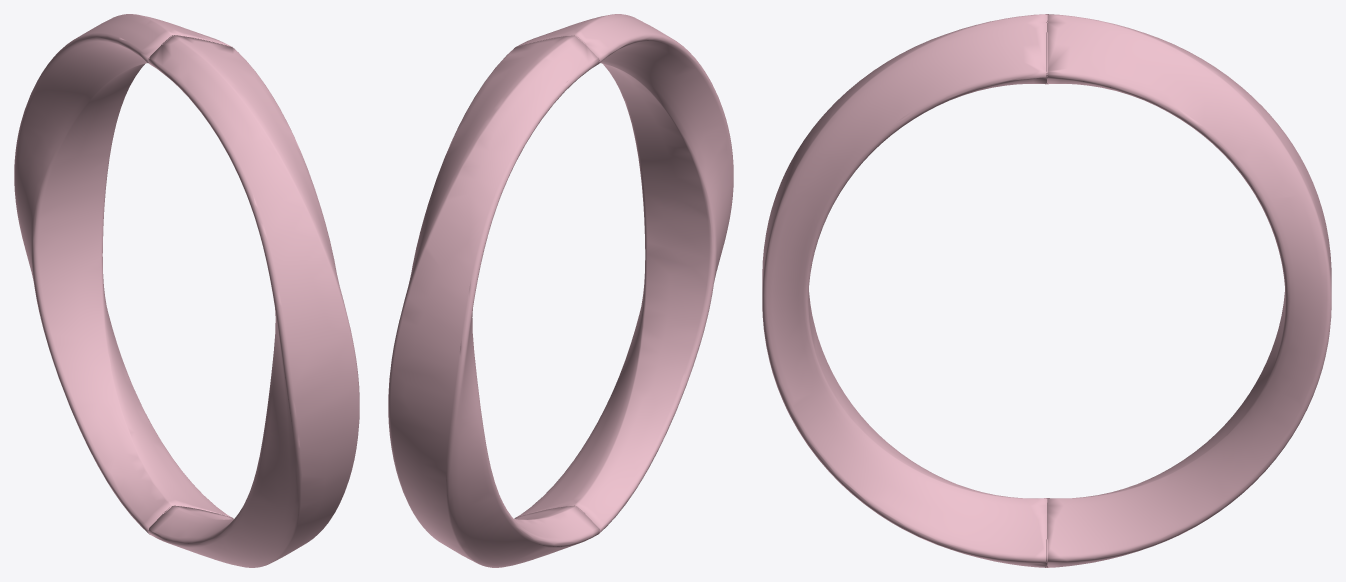
File: rose-ring.glb
3 renders of one model, left to right at view 1: azimuth 30°, elevation 25°; view 2: azimuth 150°, elevation 25°; view 3: azimuth 270°, elevation 25°, orthographic. The views are drawn at different scales.
Visible parts, largest first — view 1: rose-ring; view 2: rose-ring; view 3: rose-ring.
Boxes of the visible parts, <box> form: rose-ring: <box>14,14,359,567</box>; rose-ring: <box>388,14,733,567</box>; rose-ring: <box>762,14,1331,567</box>.
Size of the model in its own units: 0.3548 by 2.04 by 1.97.
